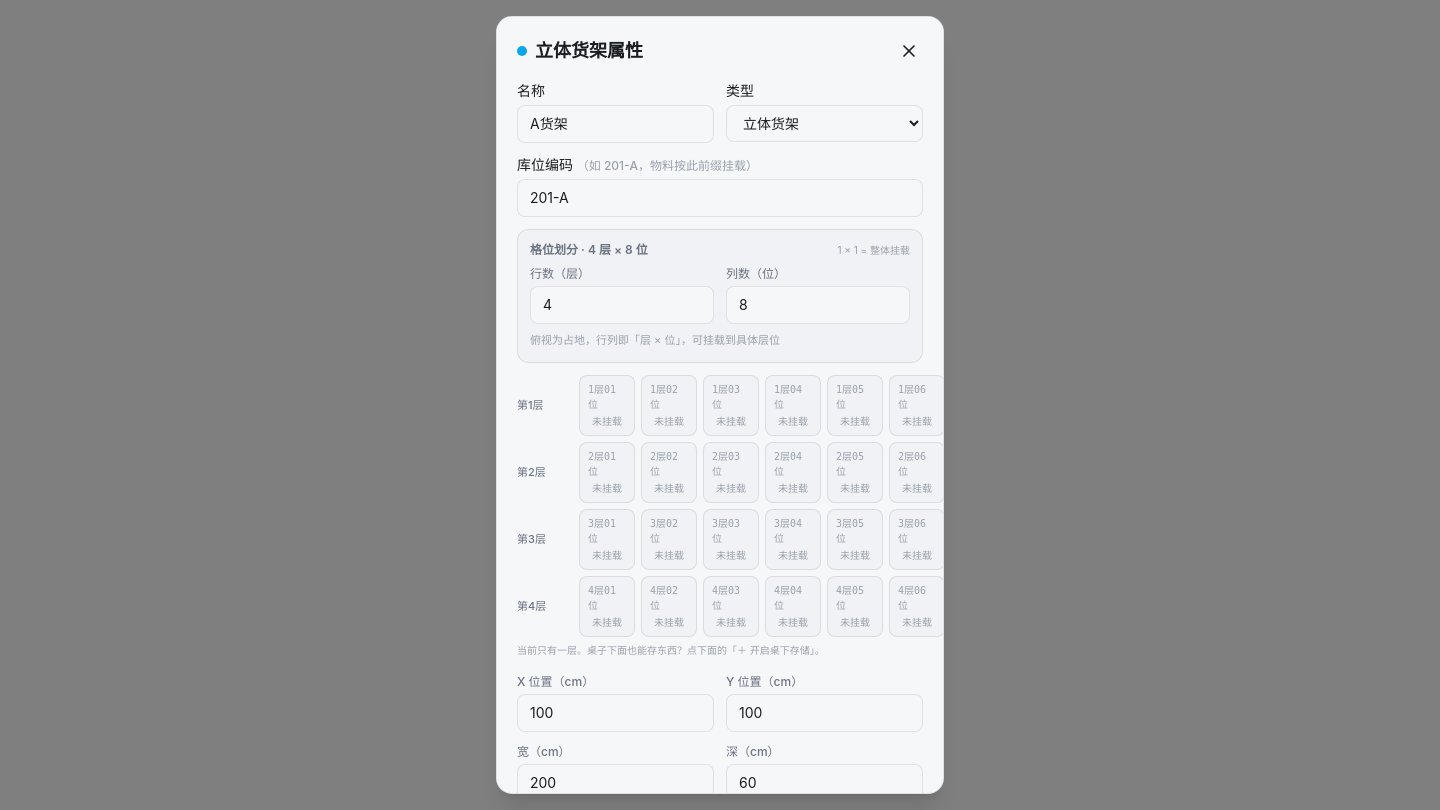
Test case: 元素属性弹窗（PropertyDialog） › 切换为柜子后行/列称呼变为 层/格，尺寸预设随之切换
Select "柜子" in the dropdown labelled "类型": coordinates (824, 124) [726,105,923,142]
(page scrolled)
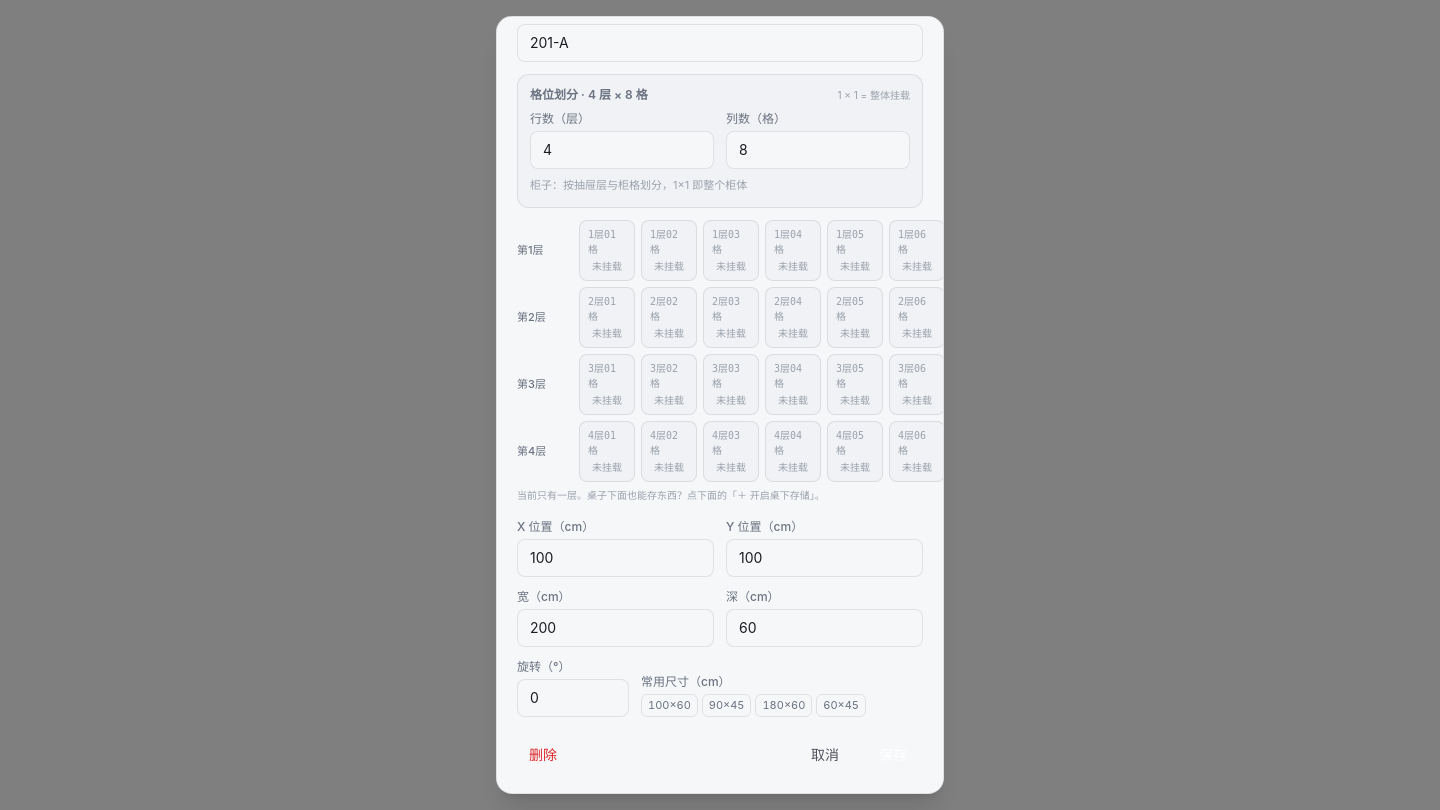
Expected: the number field labelled "列数（格）" is shown, [726,131,910,169]
Now the button "100×60" is shown, box [641,694,698,717]
